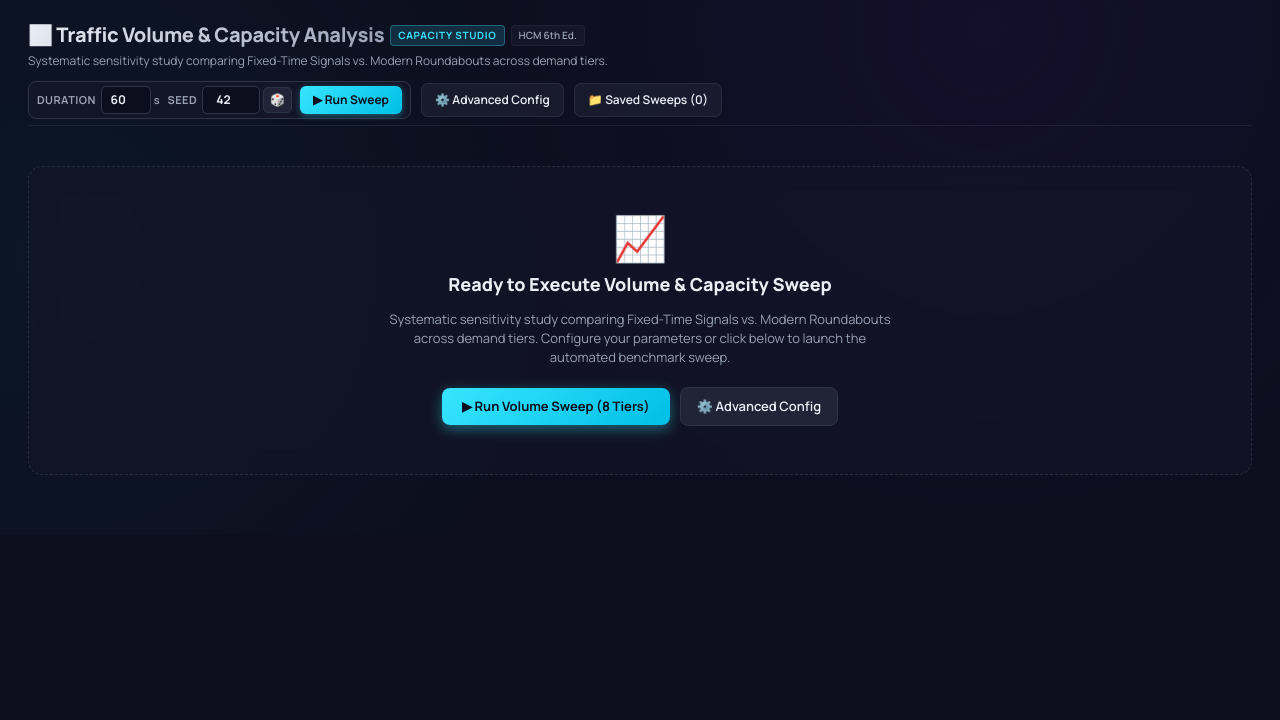
VolumeAnalysisDashboard › shows error message on failed sweep run
Step 1. Click the button "▶ Run Sweep" → (351, 100), box [300,86,402,114]
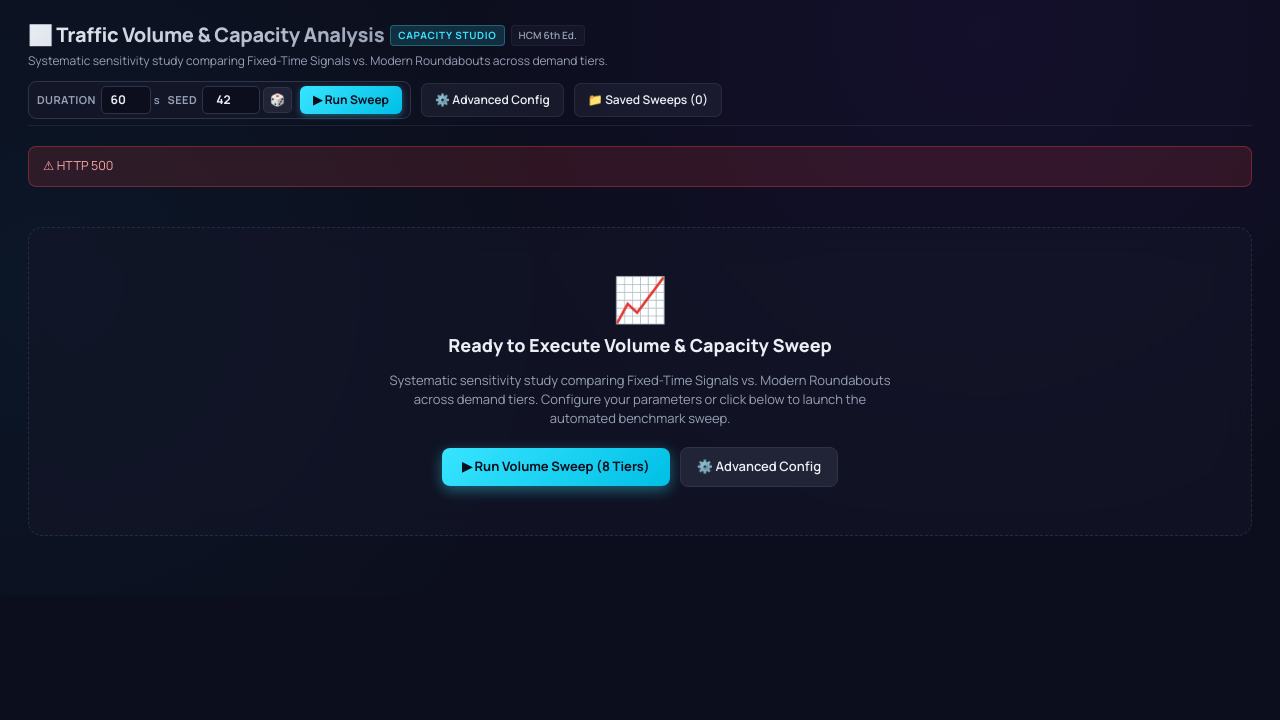
Expected: the text "⚠ HTTP 500" is shown, [28,146,1252,187]
